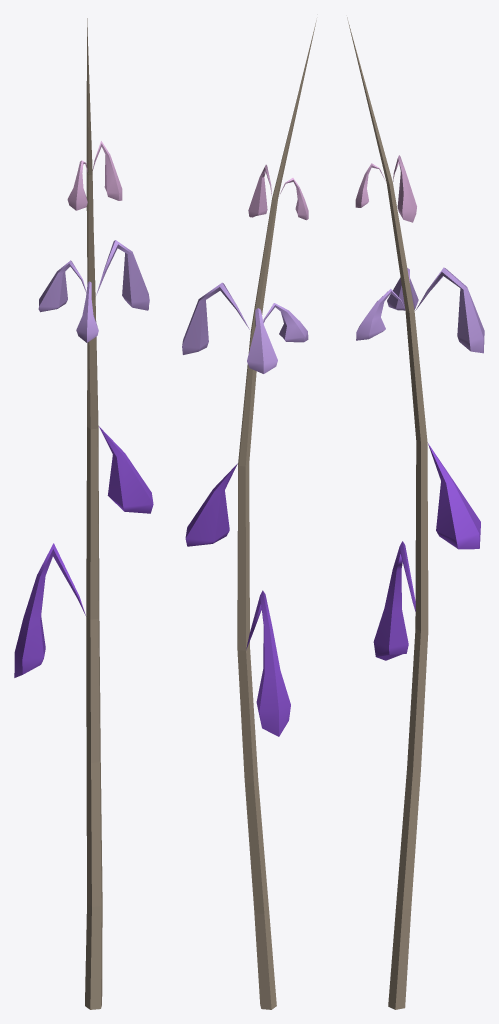
File: TallPurpleWildflowers01.fbx
The picture shows the model from 3 angles, left to right: view 1: azimuth 30°, elevation 25°; view 2: azimuth 150°, elevation 25°; view 3: azimuth 330°, elevation 25°; orthographic projection. The views are drawn at different scales.
Parts seen in each view (by area): view 1: WildFlowersWIP:pCone14; view 2: WildFlowersWIP:pCone14; view 3: WildFlowersWIP:pCone14.
Boxes of the visible parts, bbox=[...] form: WildFlowersWIP:pCone14: bbox=[14, 18, 153, 1009]; WildFlowersWIP:pCone14: bbox=[182, 20, 316, 1009]; WildFlowersWIP:pCone14: bbox=[347, 17, 484, 1009].
Bounding box in the file's own units: 5.22 × 42.53 × 4.64.
